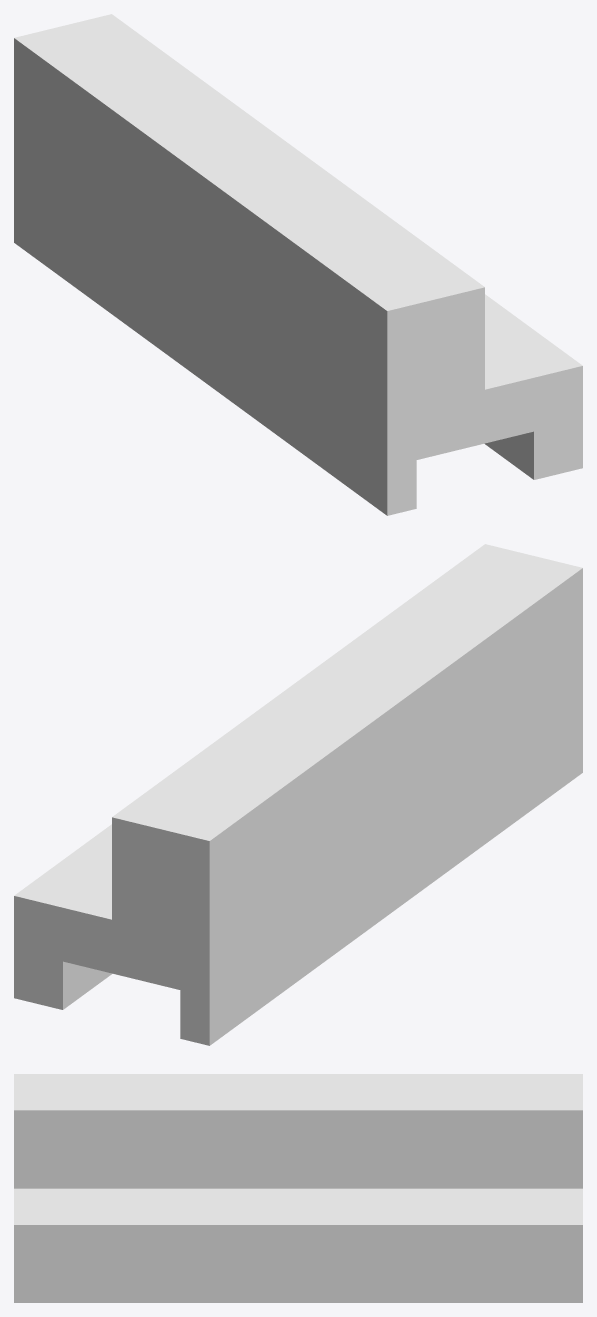
The model's file is bankje 1.fbx.
3 renders of one model, top to bottom at view 1: azimuth 30°, elevation 25°; view 2: azimuth 150°, elevation 25°; view 3: azimuth 270°, elevation 25°, orthographic. The views are drawn at different scales.
Visible parts, largest first — view 1: Cube; view 2: Cube; view 3: Cube.
Boxes of the visible parts, bbox=[...] form: Cube: bbox=[14, 14, 582, 515]; Cube: bbox=[14, 544, 582, 1045]; Cube: bbox=[14, 1074, 582, 1302].
Bounding box in the file's own units: 200 × 200 × 661.
1 material, 1 textured.
